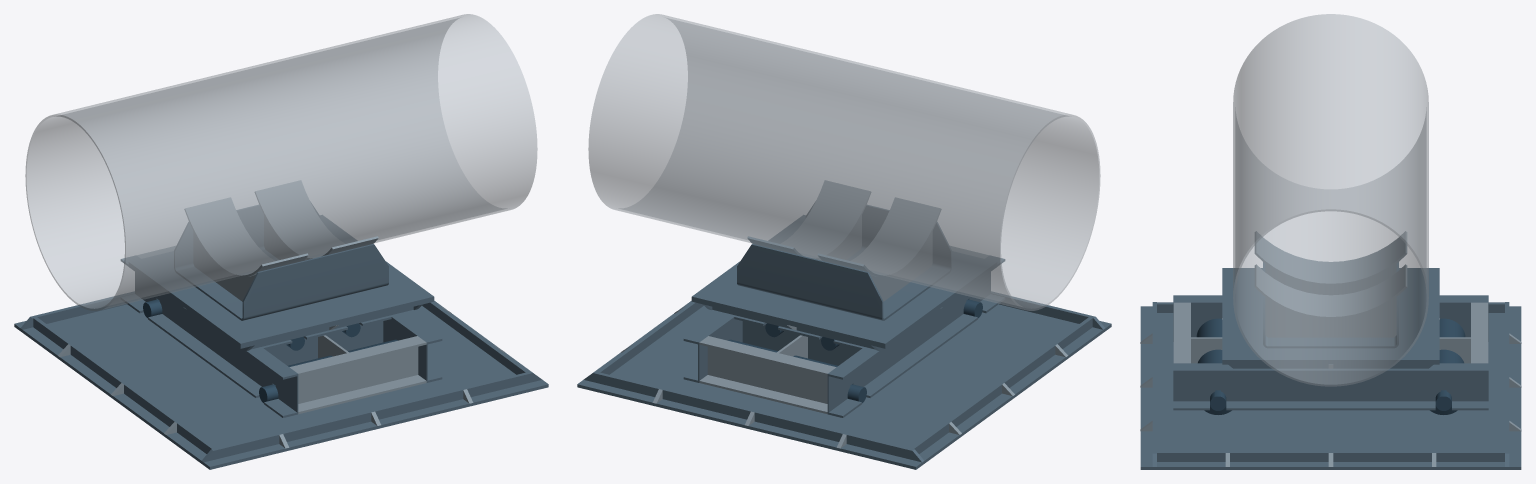
File: TS-628.00.000-18-opora-dn720-hod200.glb
3 views of the same model, side by side, from view 1: azimuth 30°, elevation 25°; view 2: azimuth 150°, elevation 25°; view 3: azimuth 270°, elevation 25° (orthographic). The views are drawn at different scales.
Parts seen in each view (by area): view 1: truba, plita_niz_osnovanie_0, plita_verh_osnovanie_70, korpus_skoba_79, karetka_shveller_prodolnyj_17, karetka_rebro_shveller_19, korpus_podushka_84, korpus_podushka_85, plita_niz_polosa2_9, plita_niz_polosa3_10, karetka_shveller_poperechnyj_18, karetka_shveller_prodolnyj_20 (+5 smaller); view 2: truba, plita_niz_osnovanie_0, plita_verh_osnovanie_70, korpus_skoba_79, karetka_shveller_prodolnyj_17, karetka_rebro_shveller_22, korpus_podushka_84, korpus_podushka_85, plita_niz_polosa2_1, plita_niz_polosa3_10, karetka_shveller_poperechnyj_21, karetka_shveller_prodolnyj_20 (+5 smaller); view 3: truba, plita_niz_osnovanie_0, karetka_shveller_prodolnyj_20, plita_verh_osnovanie_70, korpus_podushka_85, korpus_podushka_84, plita_niz_polosa3_2, korpus_rebro3_83, karetka_shveller_prodolnyj_17, korpus_skoba_79, korpus_rebro3_81, karetka_rebro_shveller_19 (+6 smaller).
Boxes of the visible parts, x1,y1,x2,y2 form: truba: (25, 14, 537, 310); plita_niz_osnovanie_0: (14, 301, 548, 469); plita_verh_osnovanie_70: (129, 215, 434, 348); korpus_skoba_79: (174, 203, 388, 320); karetka_shveller_prodolnyj_17: (120, 256, 298, 417); karetka_rebro_shveller_19: (289, 336, 426, 414); korpus_podushka_84: (184, 197, 308, 277); korpus_podushka_85: (255, 180, 378, 259); plita_niz_polosa2_9: (201, 371, 542, 462); plita_niz_polosa3_10: (33, 317, 215, 453); karetka_shveller_poperechnyj_18: (262, 315, 391, 365); karetka_shveller_prodolnyj_20: (383, 312, 442, 382); truba: (588, 14, 1100, 310); plita_niz_osnovanie_0: (577, 301, 1111, 469); plita_verh_osnovanie_70: (691, 215, 996, 348); korpus_skoba_79: (737, 203, 951, 320); karetka_shveller_prodolnyj_17: (827, 256, 1005, 417); karetka_rebro_shveller_22: (699, 336, 836, 414); korpus_podushka_84: (817, 197, 941, 277); korpus_podushka_85: (747, 180, 870, 259); plita_niz_polosa2_1: (583, 371, 924, 462); plita_niz_polosa3_10: (910, 317, 1092, 453); karetka_shveller_poperechnyj_21: (734, 315, 863, 365); karetka_shveller_prodolnyj_20: (683, 312, 742, 382); truba: (1233, 14, 1428, 386); plita_niz_osnovanie_0: (1140, 306, 1521, 469); karetka_shveller_prodolnyj_20: (1173, 363, 1488, 410); plita_verh_osnovanie_70: (1222, 268, 1439, 364); korpus_podushka_85: (1254, 264, 1407, 318); korpus_podushka_84: (1254, 231, 1407, 285); plita_niz_polosa3_2: (1157, 451, 1504, 461); korpus_rebro3_83: (1265, 297, 1396, 337); karetka_shveller_prodolnyj_17: (1173, 295, 1488, 341); korpus_skoba_79: (1263, 262, 1398, 348); korpus_rebro3_81: (1265, 264, 1396, 295); karetka_rebro_shveller_19: (1173, 302, 1190, 363).
Size of the model in its own units: 1700 by 1128 by 1402.
